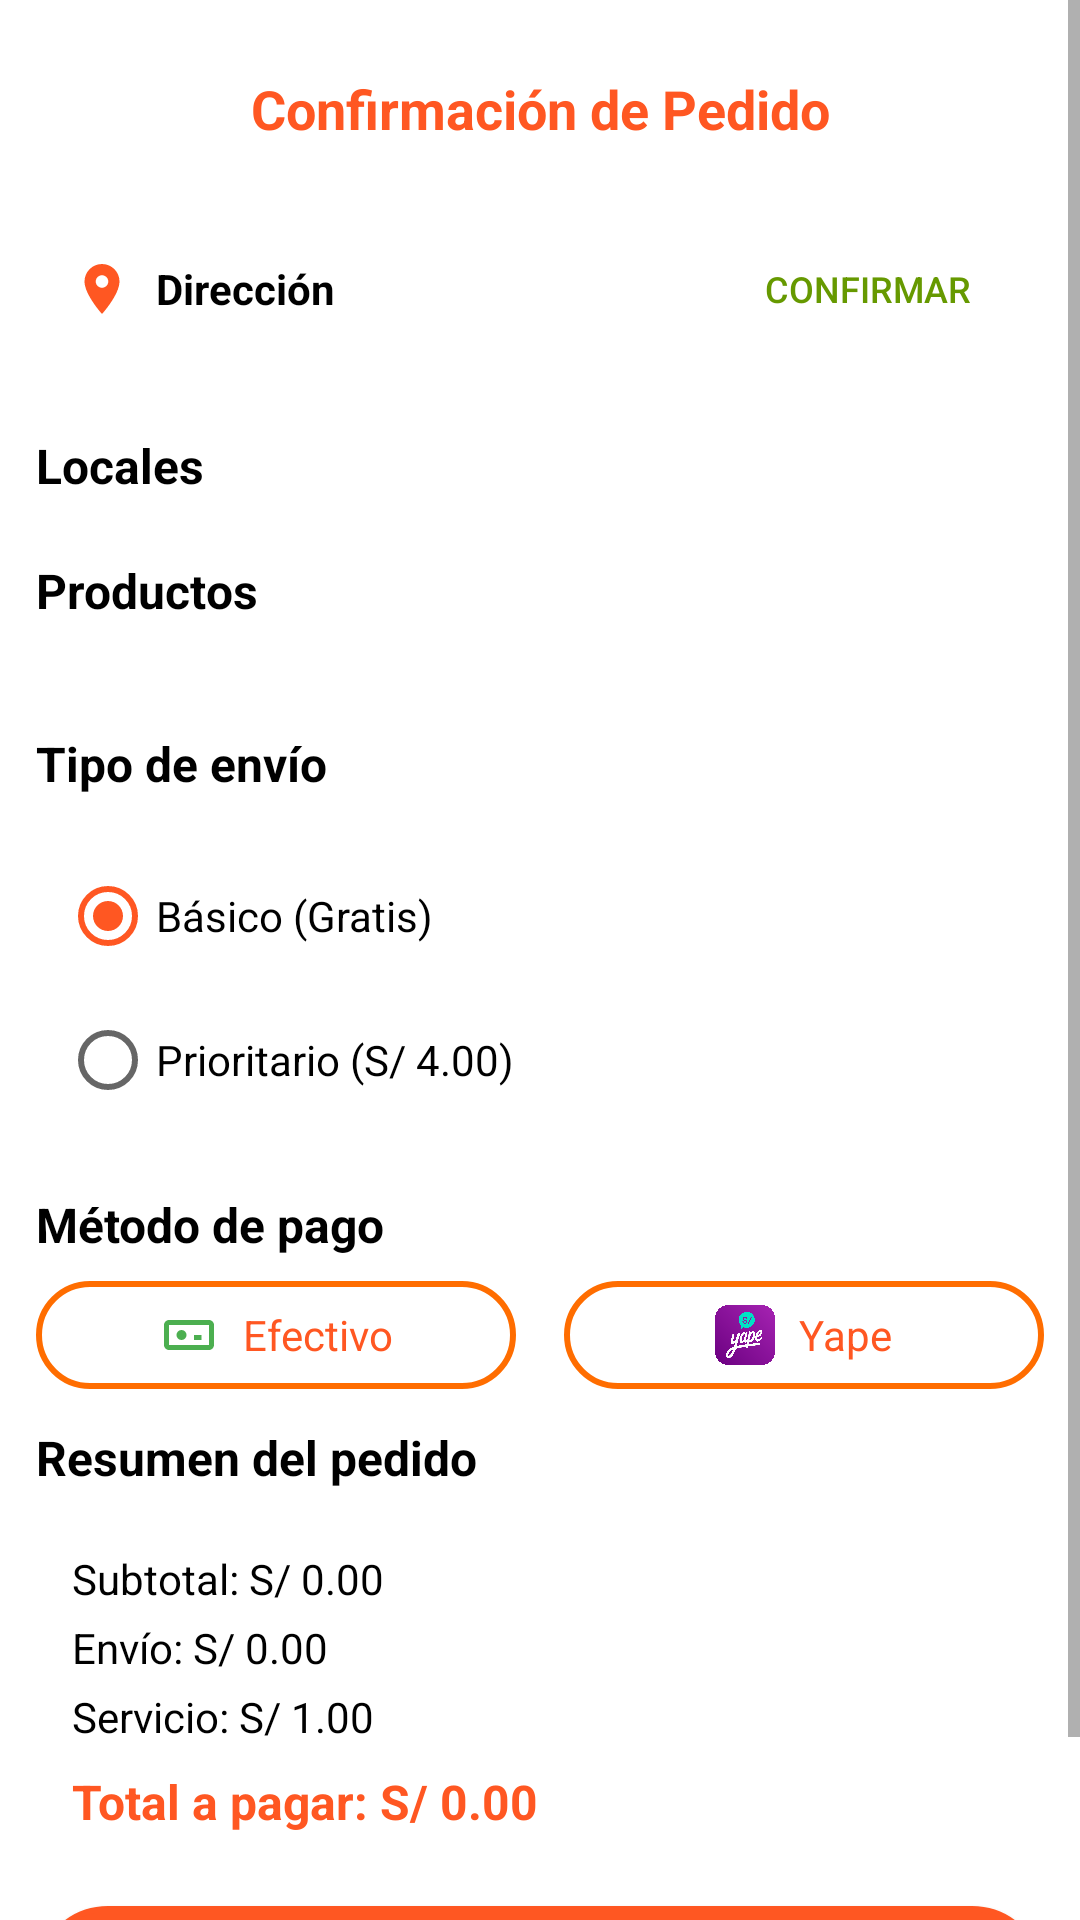

Locate icon controls on the screen. Image size 1080x1920, boxes as bbox=[x1, y1, x2, y2].
cash: bbox=[164, 1320, 214, 1350]
location: bbox=[84, 264, 120, 314]
